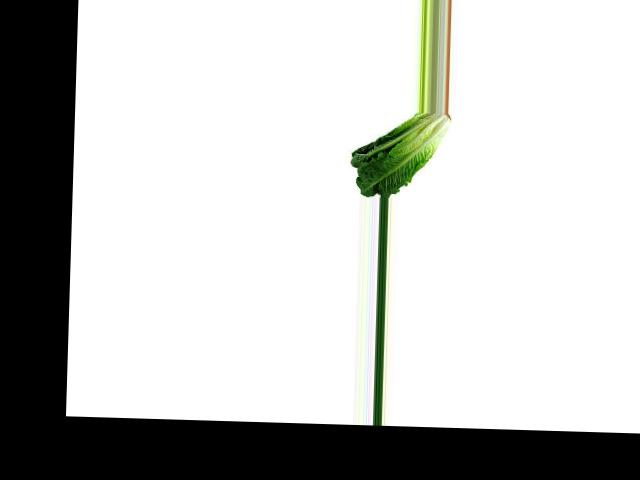lettuce: (348, 110, 452, 198)
